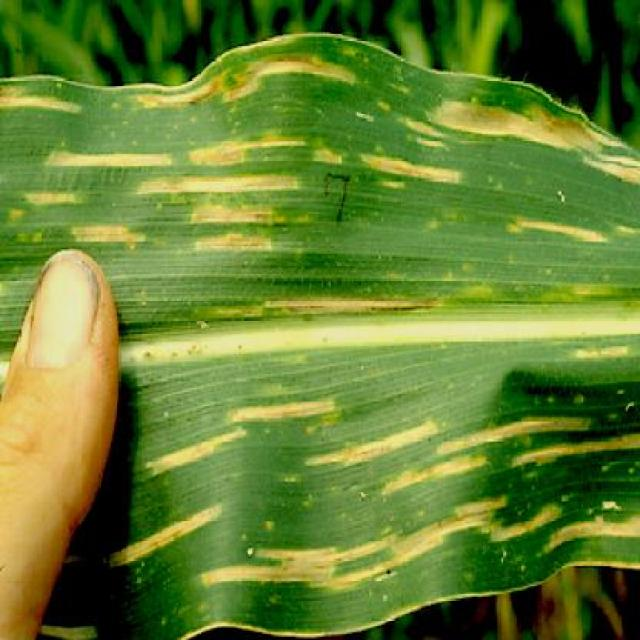Corn_Grey_Leaf_Spot: (107, 32, 640, 638)
